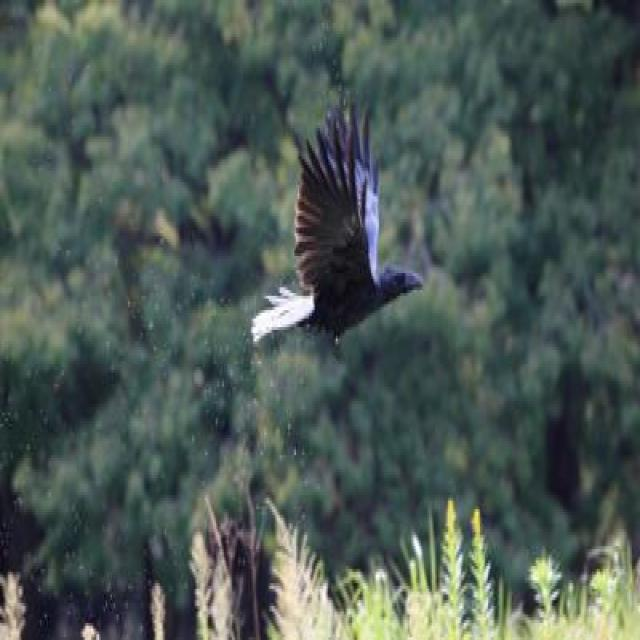birds: (249, 78, 429, 376)
